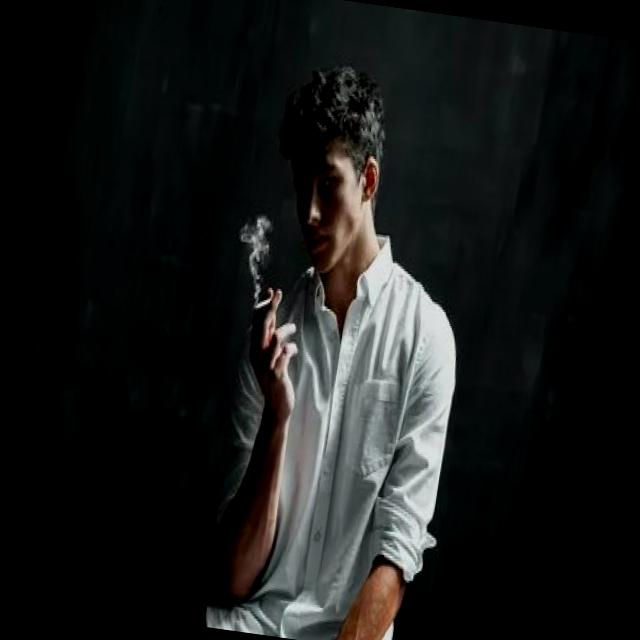cigarette: (253, 290, 278, 318)
